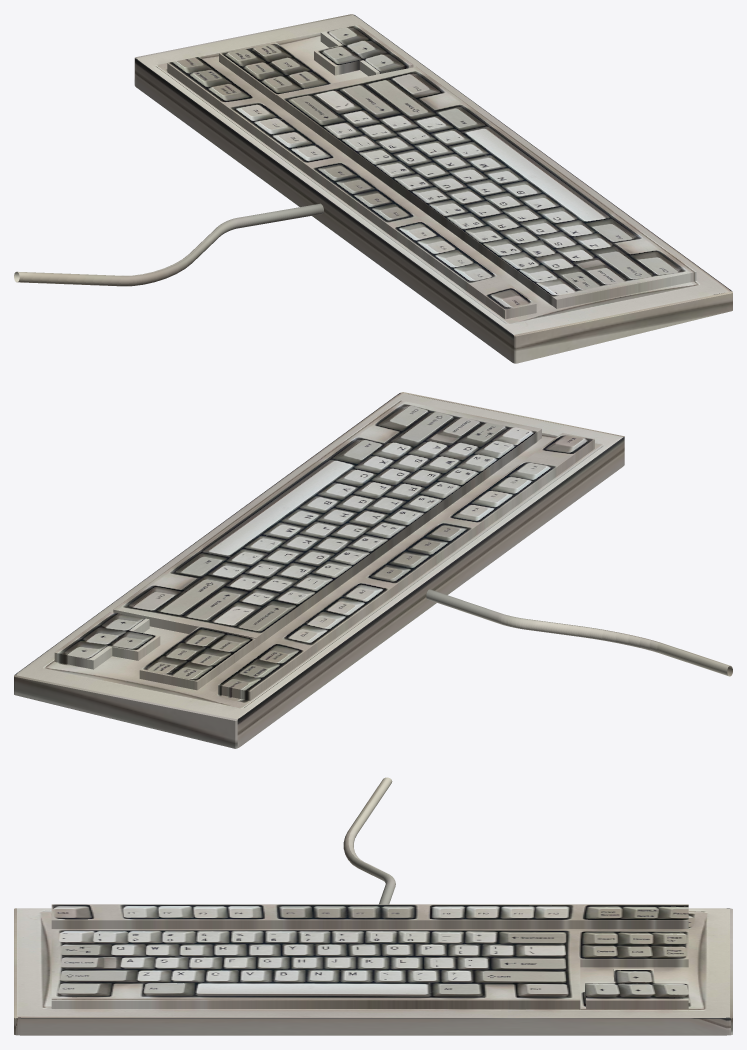
The model's file is Keyboard.fbx.
3 renders of one model, top to bottom at view 1: azimuth 30°, elevation 25°; view 2: azimuth 150°, elevation 25°; view 3: azimuth 270°, elevation 25°, orthographic. The views are drawn at different scales.
Visible parts, largest first — view 1: Cube; view 2: Cube; view 3: Cube.
Part boxes in pixels (bbox=[...]): Cube: bbox=[14, 14, 732, 363]; Cube: bbox=[14, 392, 732, 748]; Cube: bbox=[14, 777, 732, 1035].
Bounding box in the file's own units: 473 × 34.34 × 600.
1 material, 1 textured.
